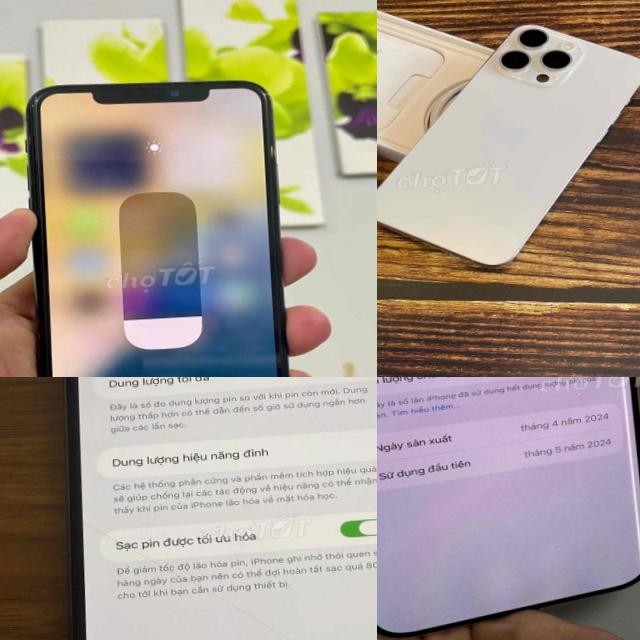screen_defect: (587, 377, 640, 584)
